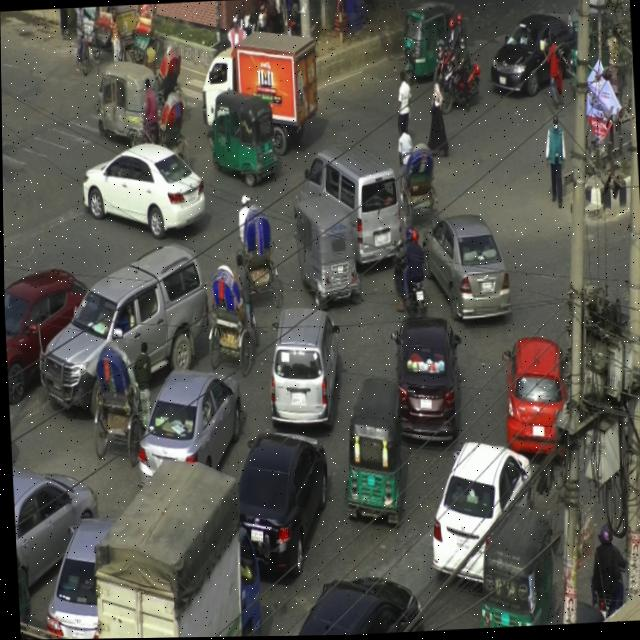cng: (336, 359, 412, 535), (289, 189, 370, 317), (478, 519, 561, 629), (202, 87, 283, 193), (84, 56, 162, 145), (393, 0, 463, 87)
rikshaw: (190, 234, 257, 362), (83, 336, 154, 456), (230, 186, 280, 315), (390, 121, 441, 231)
